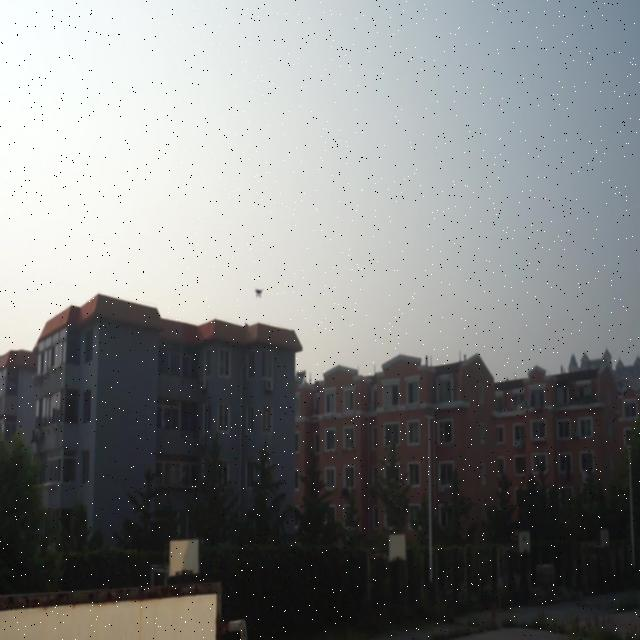UAV: (254, 287, 264, 299)
